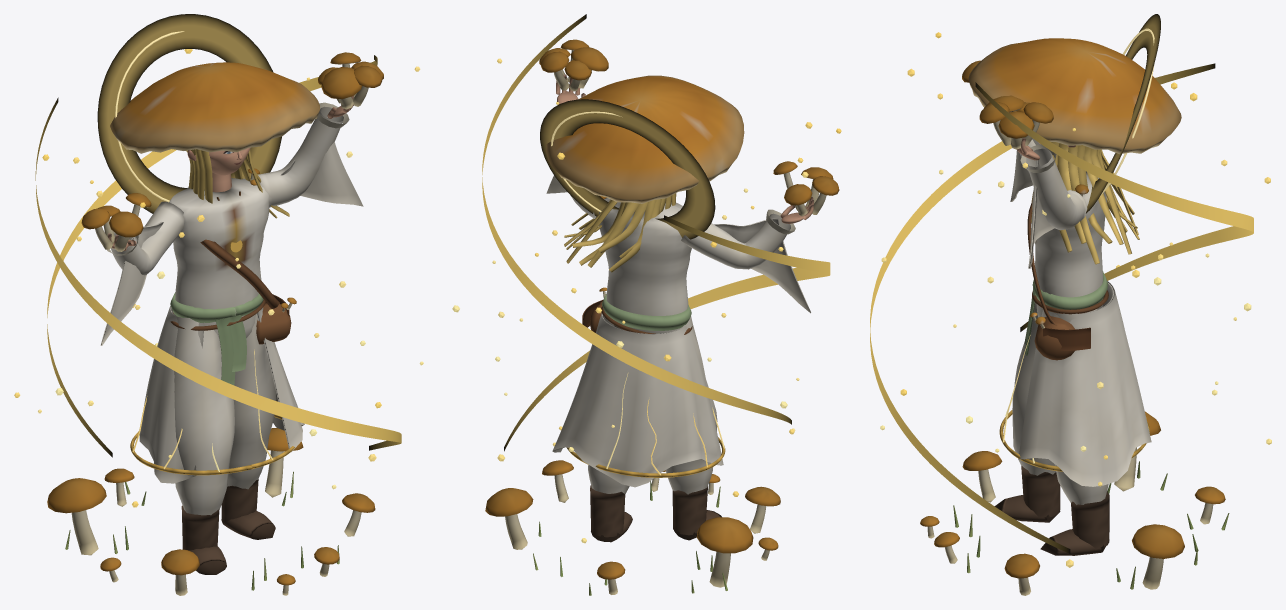
File: mycelian.glb
3 views of the same model, side by side, from view 1: azimuth 30°, elevation 25°; view 2: azimuth 150°, elevation 25°; view 3: azimuth 270°, elevation 25° (orthographic). The views are drawn at different scales.
Parts seen in each view (by area): view 1: mycelian-body, mycelian-fx, mycelian-glow, mycelian-face; view 2: mycelian-body, mycelian-fx, mycelian-glow; view 3: mycelian-body, mycelian-fx, mycelian-glow.
Part boxes in pixels (x1,y1,x2,y2): mycelian-body: (47,52,383,595); mycelian-fx: (35,14,401,457); mycelian-glow: (14,31,423,507); mycelian-face: (209,147,250,175); mycelian-body: (485,39,839,595); mycelian-fx: (482,14,830,451); mycelian-glow: (452,58,841,543); mycelian-body: (920,38,1229,595); mycelian-fx: (870,14,1253,553); mycelian-glow: (880,28,1271,567).
Size of the model in its own units: 0.9511 by 1.27 by 0.8962.
5 materials, 1 textured.
